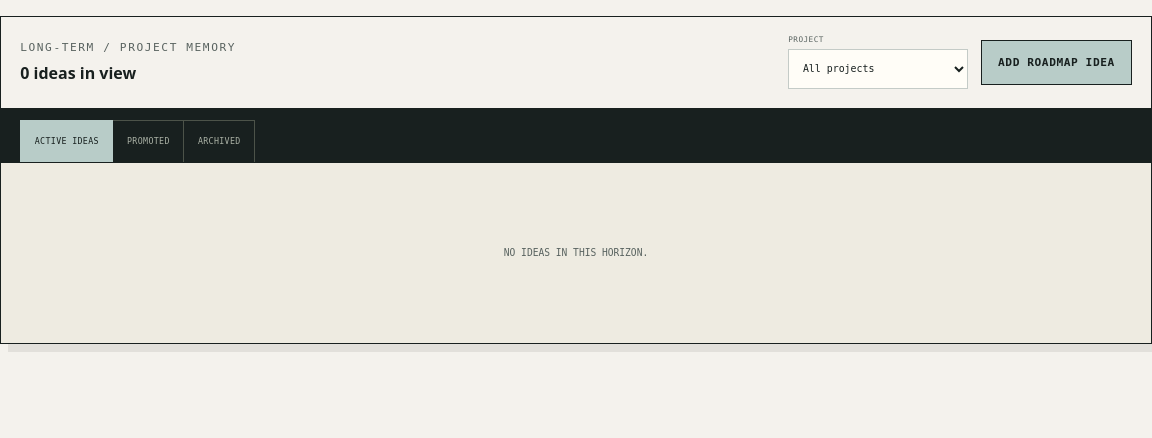
Test: RoadmapWorkspace › browses archived ideas and restores them without creating a task
Click the button with aria-label "Archived roadmap ideas" at (220, 141), box [184, 120, 255, 162]
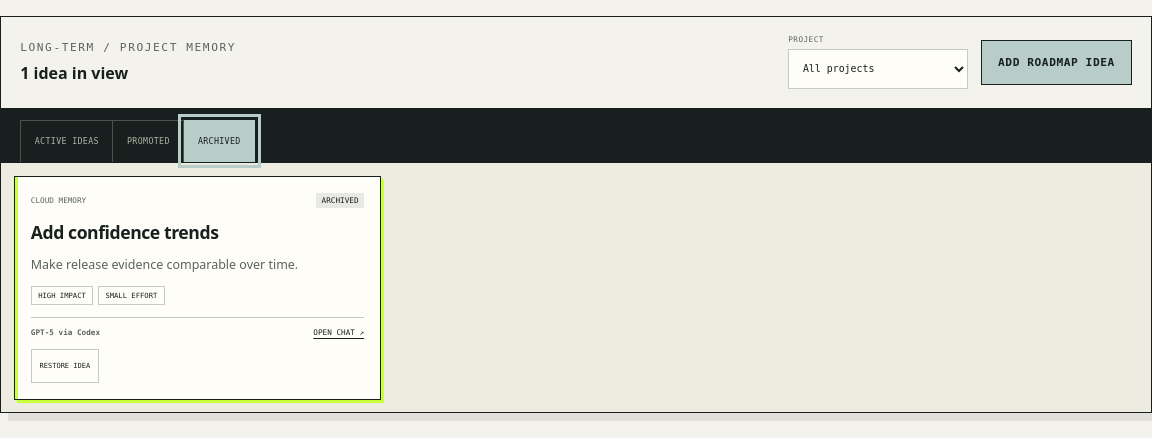
Click the button with aria-label "Restore Add confidence trends" at (65, 366), box [31, 348, 99, 382]
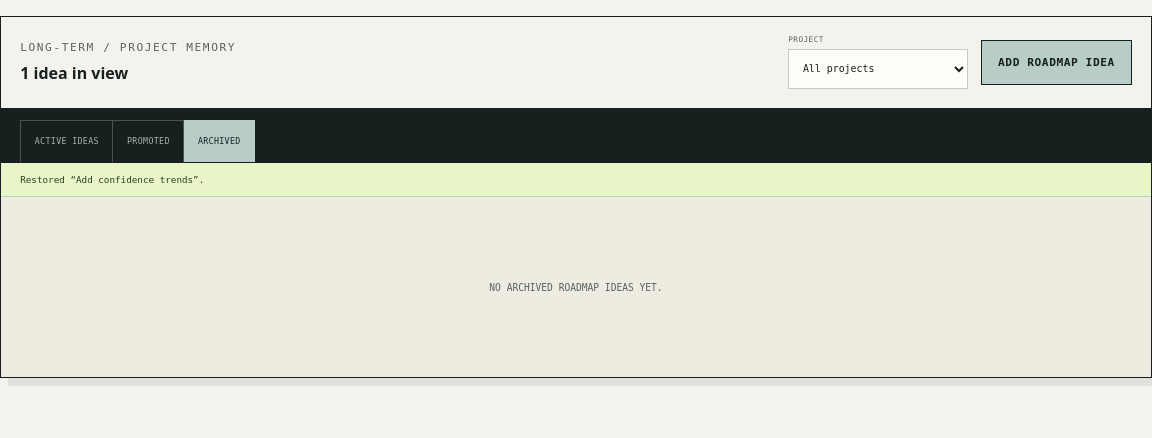
Check: the message shows "Restored", box [20, 174, 204, 185]
